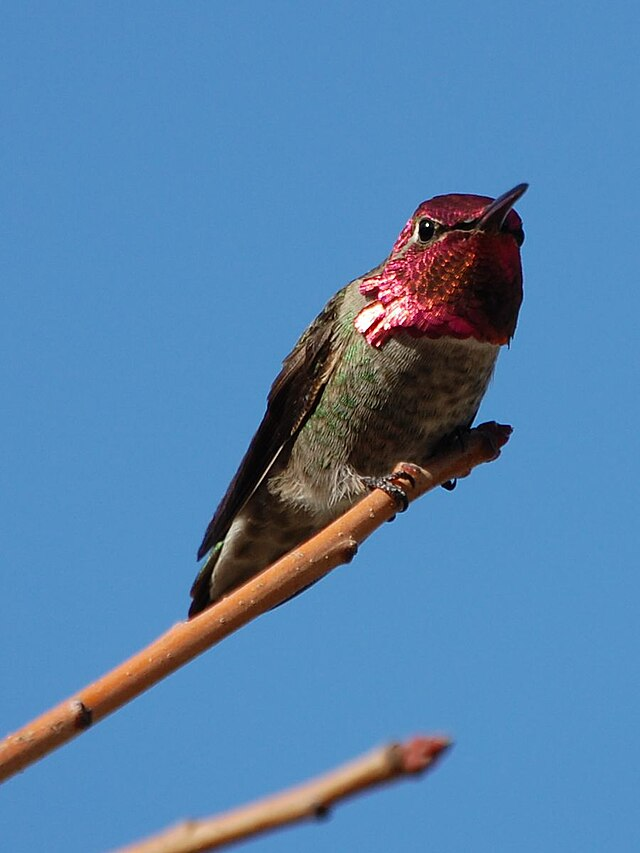calypte anna: (164, 182, 532, 620)
